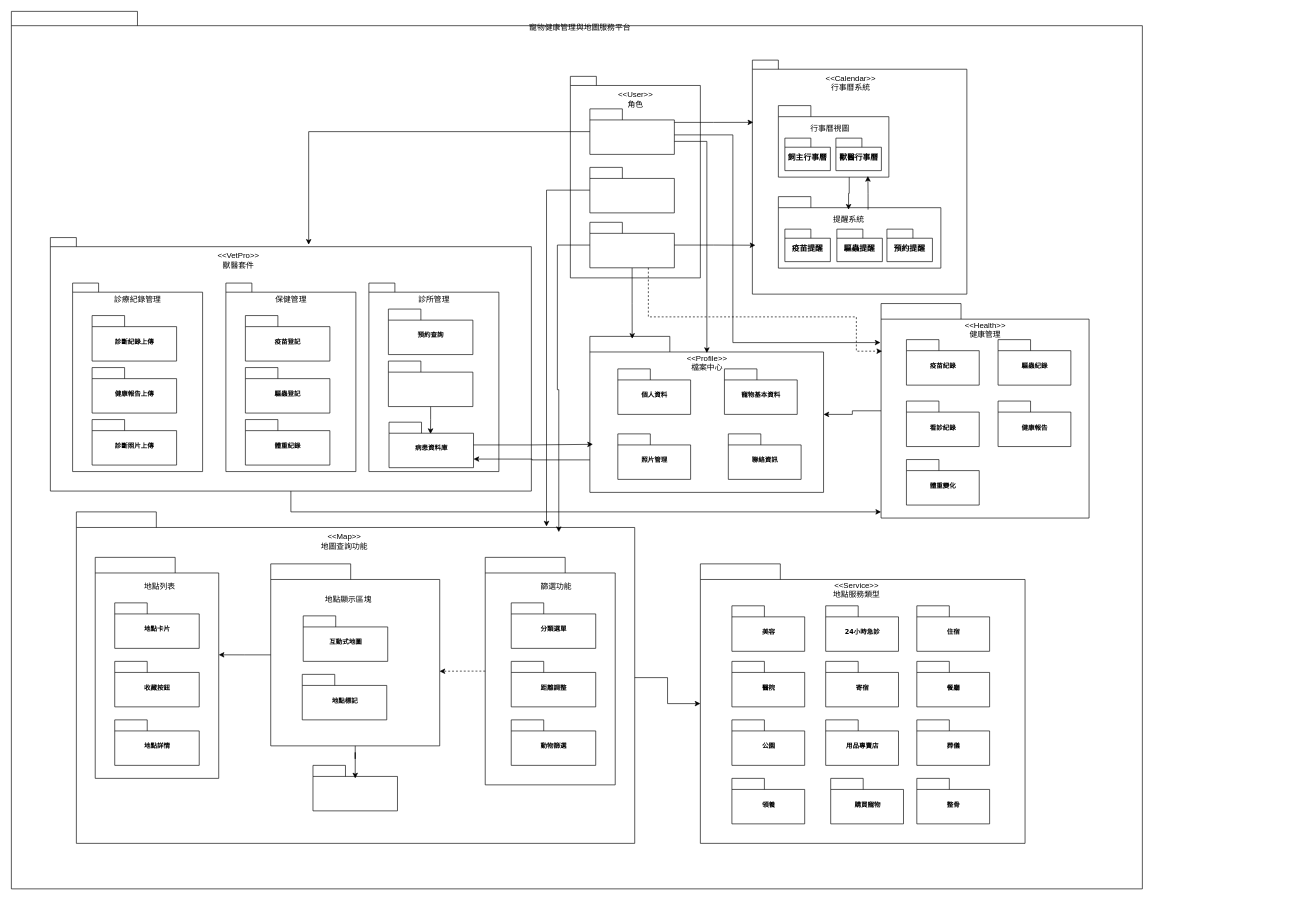
Some shapes in this 1302 by 900 pixel diagram are drawn without their labels. Each missing label, with the box of its shape:
一般使用者: (589, 167, 674, 213)
地圖搜尋框: (312, 765, 397, 811)
寵物主人: (589, 222, 674, 268)
獸醫: (589, 108, 674, 154)
病患名單管理: (388, 360, 473, 407)
